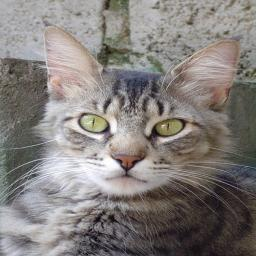catnose: (112, 154, 143, 171)
